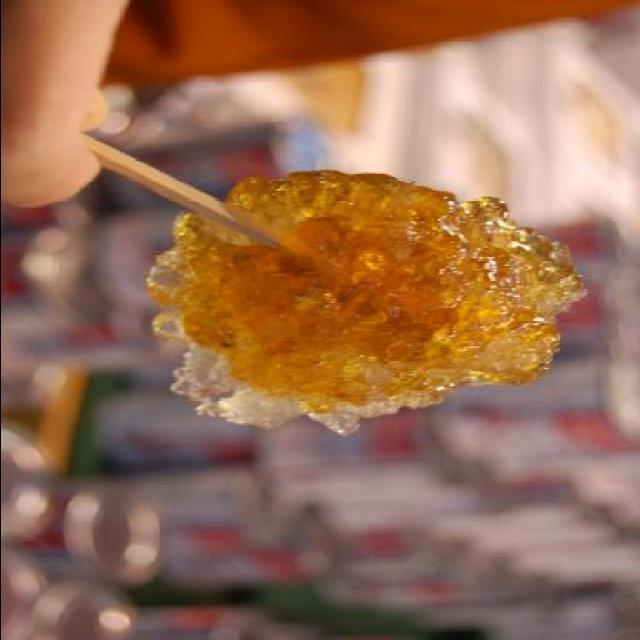Candy: (144, 163, 586, 437)
